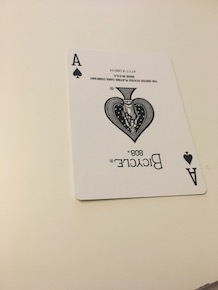AceOfSpades: (58, 46, 210, 203)
